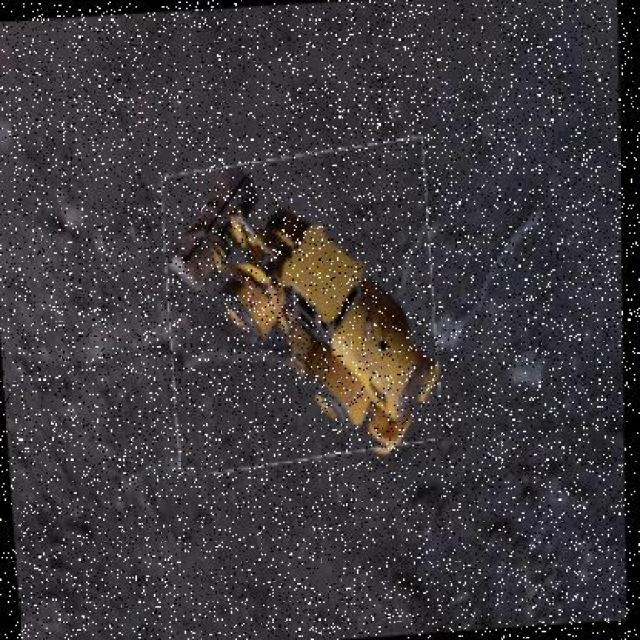buldozerpayloadergrader: (161, 155, 442, 459)
